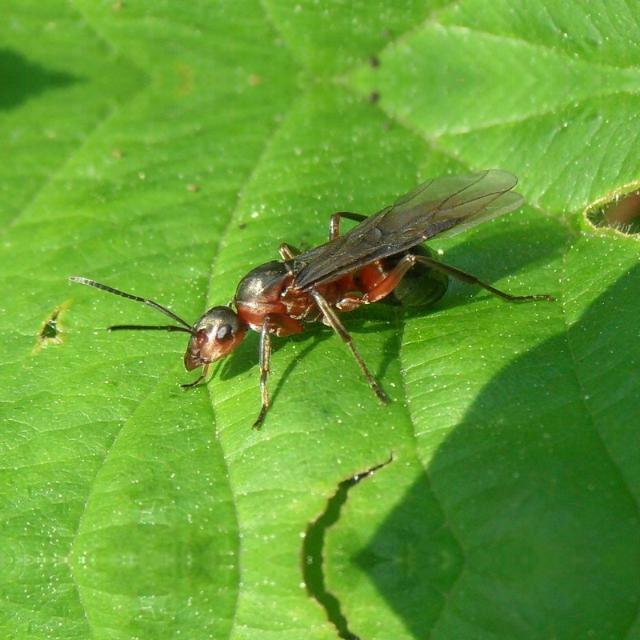Formica: (120, 176, 486, 384)
